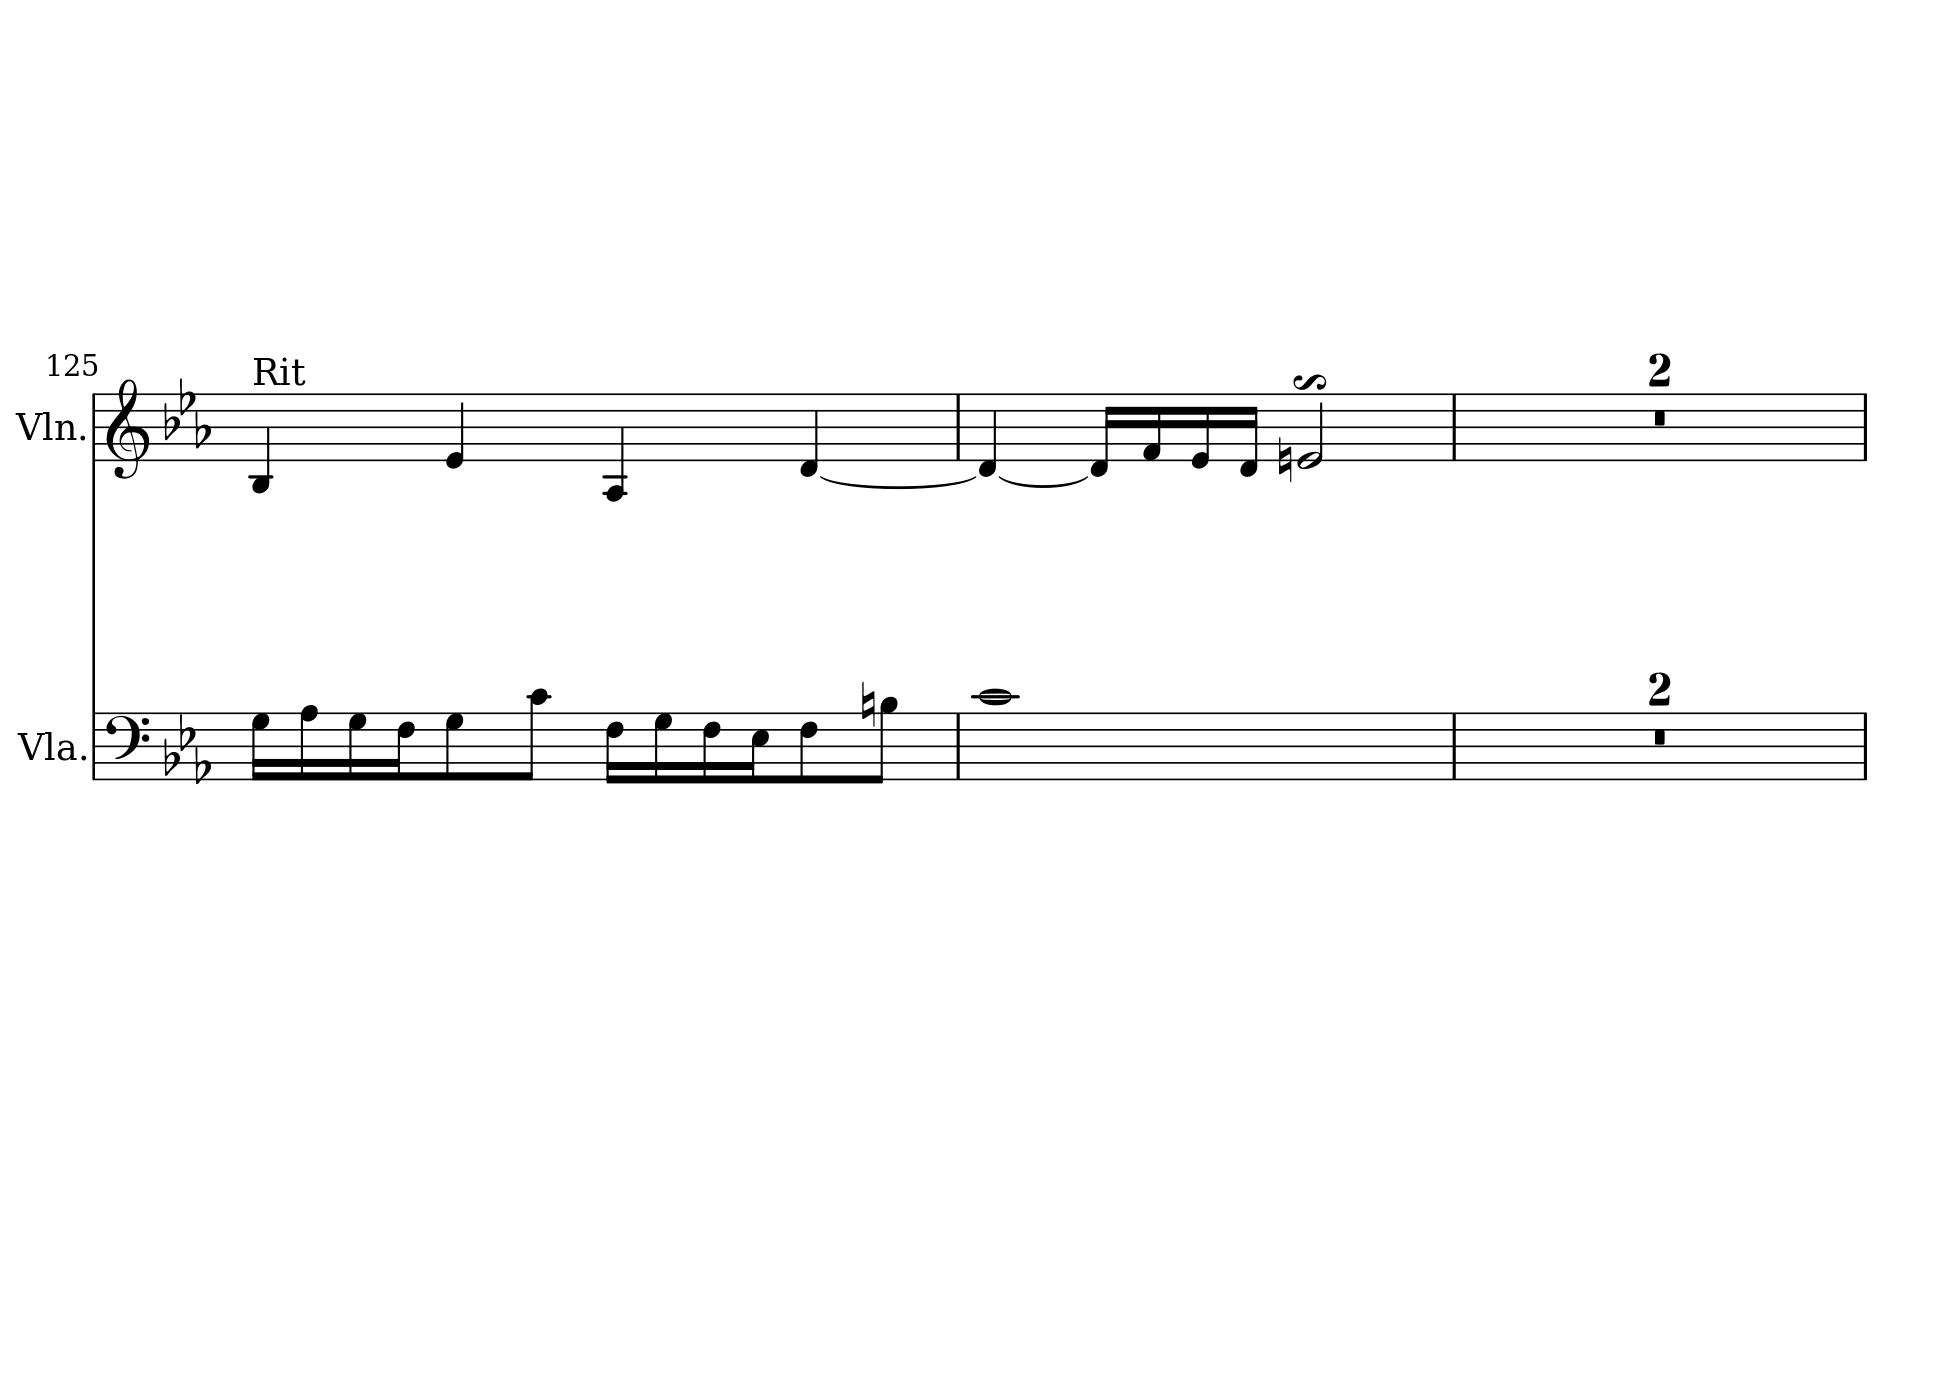1: (46, 351, 61, 379)
16_-1: (1087, 391, 1119, 478), (1236, 390, 1260, 478)
16_0: (1188, 391, 1213, 469)
16_1: (1140, 391, 1164, 463)
16_5: (742, 709, 771, 784)
16_6: (388, 709, 415, 781), (700, 709, 723, 784), (604, 709, 625, 784)
16_7: (651, 709, 673, 786), (249, 709, 271, 784), (346, 709, 367, 783)
16_8: (295, 702, 319, 781)
1_10: (975, 685, 1014, 783)
2: (1645, 346, 1675, 390), (1645, 667, 1675, 708), (61, 351, 79, 378)
2_0: (1296, 391, 1326, 469)
4_-1: (796, 390, 820, 478), (976, 390, 999, 478)
4_-3: (247, 390, 274, 496)
4_-4: (601, 388, 628, 499)
4_0: (444, 391, 466, 471)
5: (81, 349, 99, 379)
8_10: (514, 685, 549, 781)
8_6: (798, 709, 819, 786)
8_7: (442, 709, 465, 781)
8_9: (868, 694, 898, 784)
E_F: (162, 375, 213, 448), (162, 709, 213, 783)
Fclef: (103, 709, 150, 780)
Gclef: (105, 376, 148, 480)
Inverted_turn: (1290, 370, 1327, 391)
Natural: (859, 679, 876, 729), (1276, 435, 1293, 483)
Single_barline: (1854, 393, 1875, 460), (1855, 712, 1875, 780), (949, 712, 967, 778), (1446, 712, 1464, 778), (1446, 393, 1462, 460), (949, 394, 966, 460), (87, 391, 102, 462), (87, 712, 102, 780)
Slur: (820, 474, 976, 490), (997, 474, 1090, 489)
Vla: (18, 724, 78, 768)
Vln: (15, 405, 78, 447)
